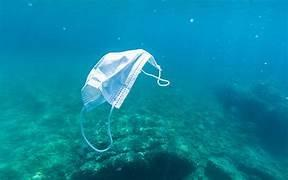Mask: (81, 49, 169, 151)
